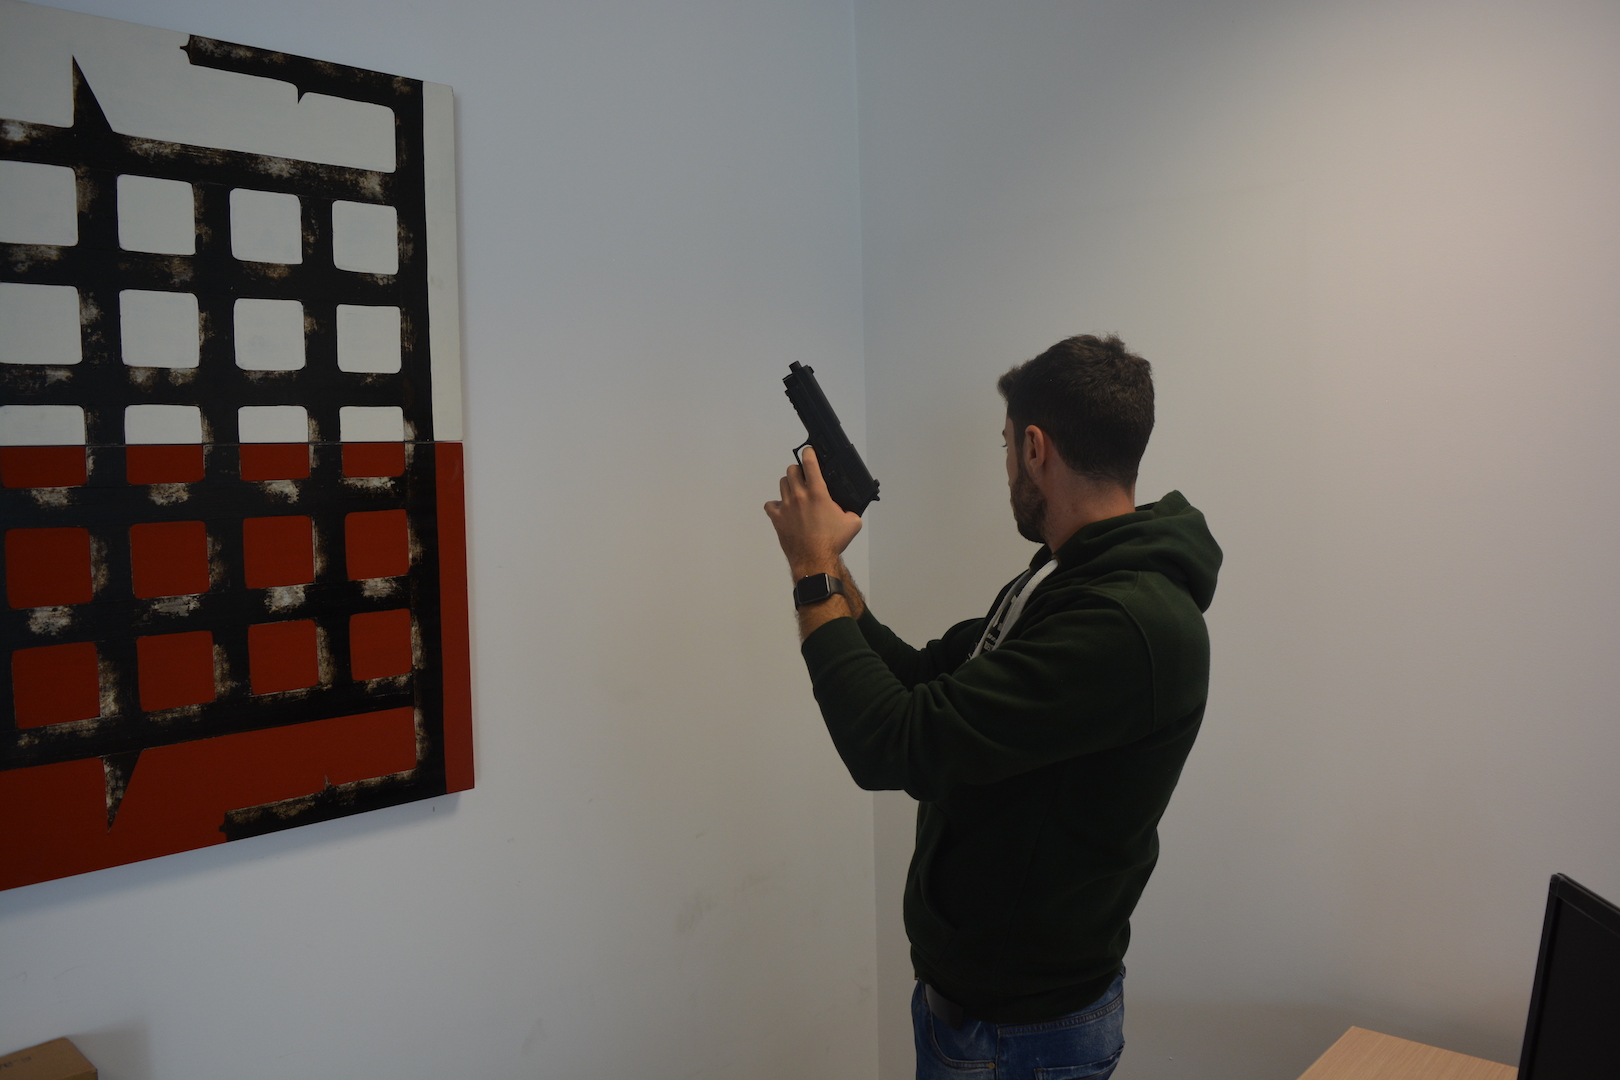pistol: (782, 359, 884, 520)
